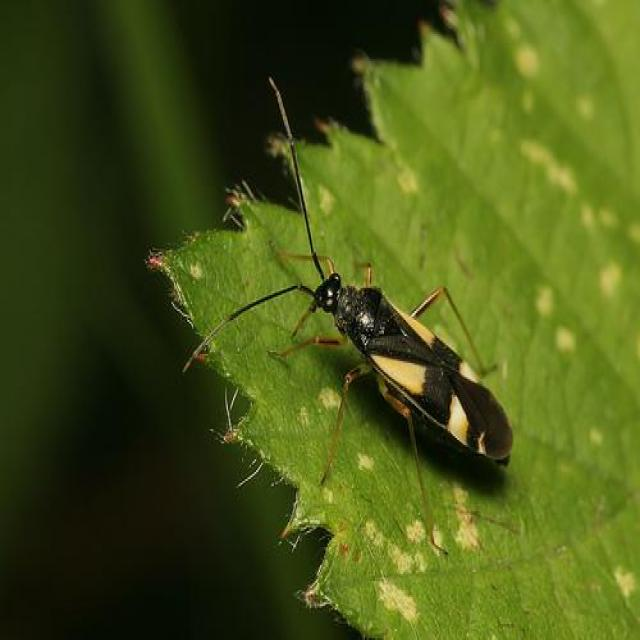Miridae-Adult-: (184, 71, 520, 499)
